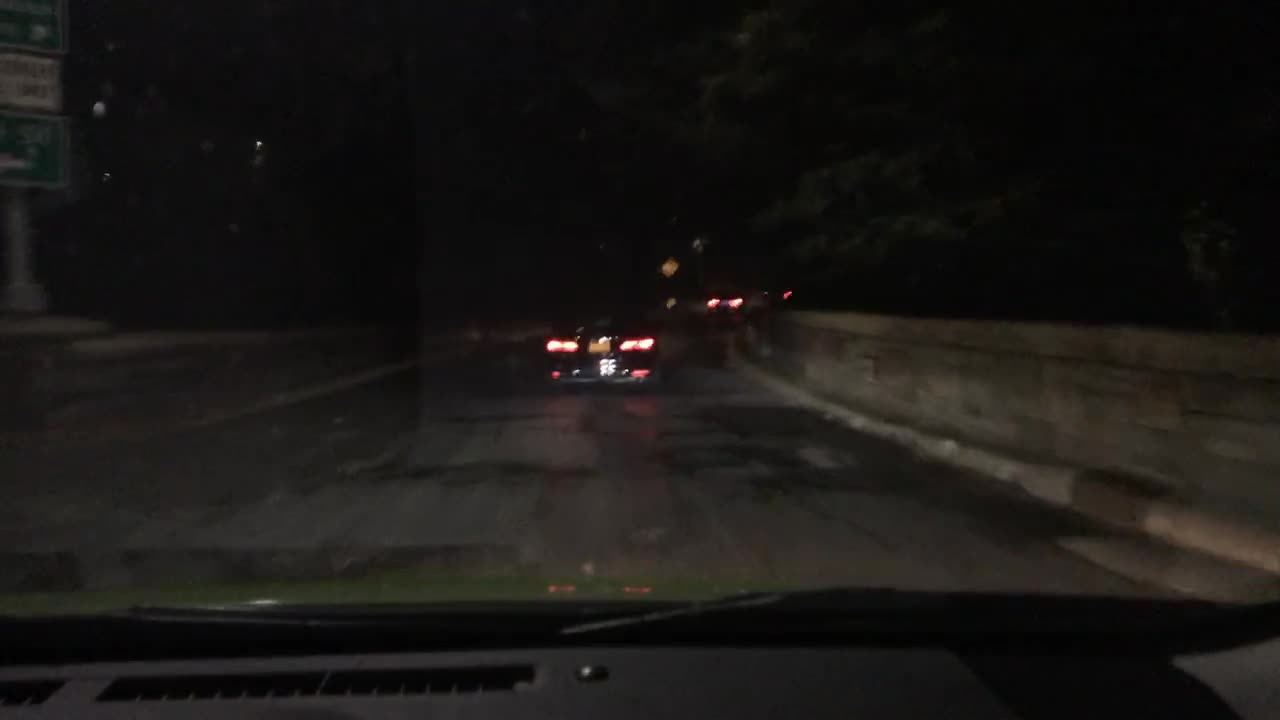car: (547, 313, 657, 398), (705, 289, 745, 322)
traffic sign: (4, 109, 71, 196), (4, 52, 69, 108), (659, 258, 679, 276)
